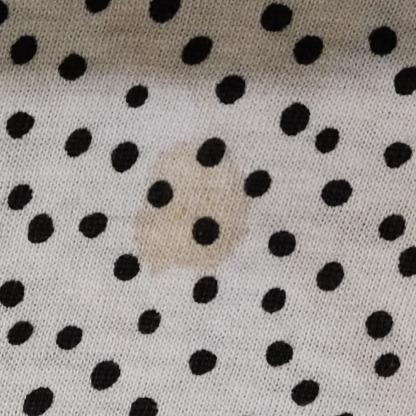spot: (118, 141, 263, 272)
